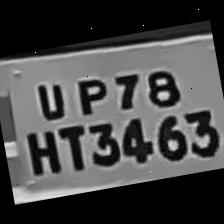3: (179, 102, 222, 160), (81, 115, 121, 170)
4: (111, 108, 154, 166)
6: (149, 108, 189, 164)
7: (104, 64, 144, 112)
8: (136, 60, 184, 110)
H: (19, 124, 63, 180)
P: (65, 68, 112, 119)
T: (54, 121, 90, 176)
U: (27, 72, 70, 122)
